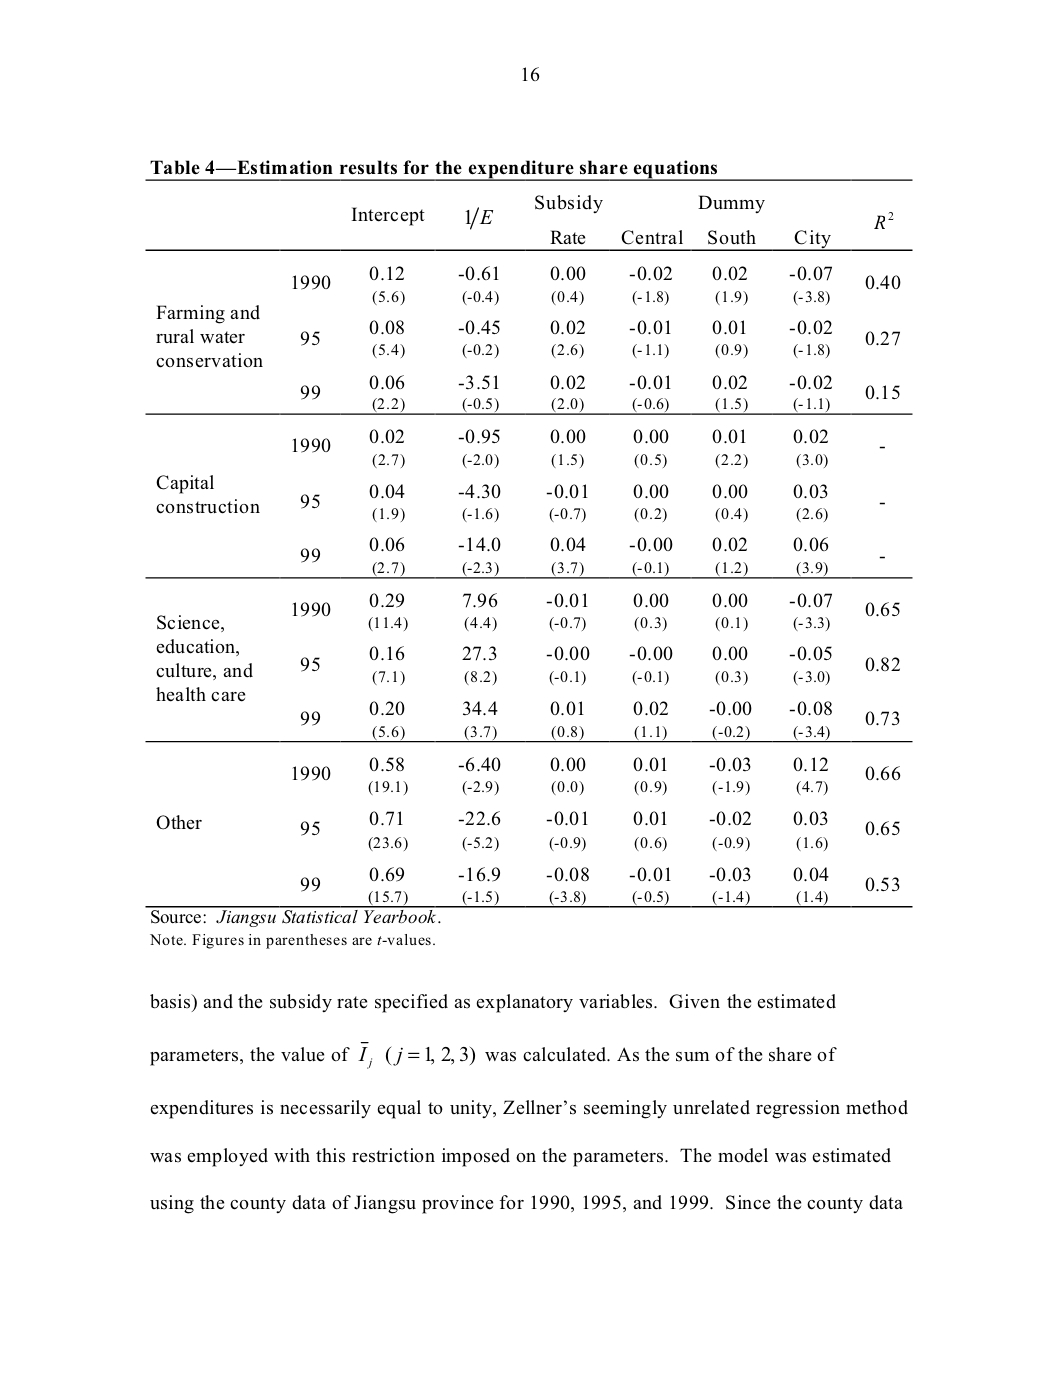Table: (145, 195, 912, 907)
